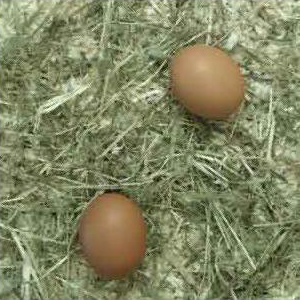egg: (79, 191, 147, 279), (170, 44, 245, 120)
